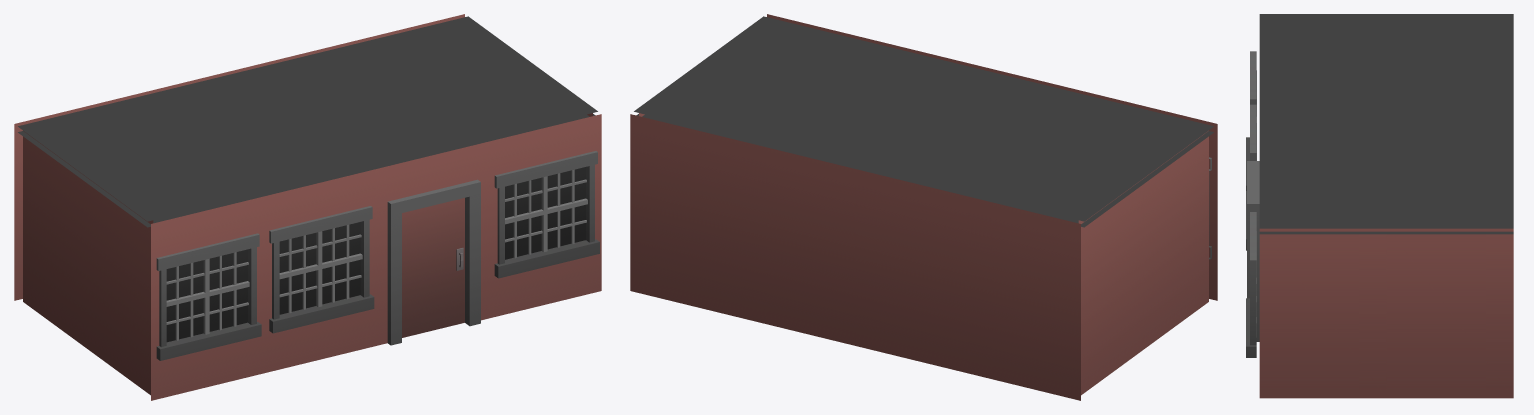
Rendered from window-hall.glb.
3 renders of one model, left to right at view 1: azimuth 30°, elevation 25°; view 2: azimuth 150°, elevation 25°; view 3: azimuth 270°, elevation 25°, orthographic. The views are drawn at different scales.
Parts seen in each view (by area): view 1: Part_02_IndWindowBFull_WindowBFull, Part_01_IndWindowBFull_WindowBFull, Part_05_IndWindowBFull_WindowBFull, Part_03_IndDoorFrameSingle_DoorFrameSingle, Part_11_IndWallFull_WallFull, Part_10_IndWallFull_WallFull, Part_14_IndRoofDarkGreyFull_RoofDarkGreyFull, Part_04_IndDoorSingleRed_DoorSingleRed, Part_18_IndRoofDarkGreyFull_RoofDarkGreyFull, Part_16_IndRoofDarkGreyFull_RoofDarkGreyFull, Part_15_IndRoofDarkGreyFull_RoofDarkGreyFull, Part_17_IndRoofDarkGreyFull_RoofDarkGreyFull (+4 smaller); view 2: Part_07_IndWallFull_WallFull, Part_06_IndWallFull_WallFull, Part_09_IndWallFull_WallFull, Part_08_IndWallFull_WallFull, Part_10_IndWallFull_WallFull, Part_11_IndWallFull_WallFull, Part_18_IndRoofDarkGreyFull_RoofDarkGreyFull, Part_14_IndRoofDarkGreyFull_RoofDarkGreyFull, Part_20_IndRoofDarkGreyFull_RoofDarkGreyFull, Part_19_IndRoofDarkGreyFull_RoofDarkGreyFull, Part_21_IndRoofDarkGreyFull_RoofDarkGreyFull, Part_16_IndRoofDarkGreyFull_RoofDarkGreyFull (+3 smaller); view 3: Part_12_IndWallFull_WallFull, Part_13_IndWallFull_WallFull, Part_17_IndRoofDarkGreyFull_RoofDarkGreyFull, Part_21_IndRoofDarkGreyFull_RoofDarkGreyFull, Part_15_IndRoofDarkGreyFull_RoofDarkGreyFull, Part_19_IndRoofDarkGreyFull_RoofDarkGreyFull, Part_14_IndRoofDarkGreyFull_RoofDarkGreyFull, Part_16_IndRoofDarkGreyFull_RoofDarkGreyFull, Part_18_IndRoofDarkGreyFull_RoofDarkGreyFull, Part_20_IndRoofDarkGreyFull_RoofDarkGreyFull, Part_03_IndDoorFrameSingle_DoorFrameSingle, Part_05_IndWindowBFull_WindowBFull (+2 smaller).
Boxes of the visible parts, box(x1,y1,x2,y2) form: Part_02_IndWindowBFull_WindowBFull: box(263, 169, 376, 373); Part_01_IndWindowBFull_WindowBFull: box(151, 196, 263, 400); Part_05_IndWindowBFull_WindowBFull: box(489, 114, 601, 318); Part_03_IndDoorFrameSingle_DoorFrameSingle: box(376, 141, 488, 345); Part_11_IndWallFull_WallFull: box(23, 130, 88, 349); Part_10_IndWallFull_WallFull: box(88, 178, 153, 395); Part_14_IndRoofDarkGreyFull_RoofDarkGreyFull: box(83, 146, 259, 227); Part_04_IndDoorSingleRed_DoorSingleRed: box(402, 198, 464, 337); Part_18_IndRoofDarkGreyFull_RoofDarkGreyFull: box(18, 99, 194, 179); Part_16_IndRoofDarkGreyFull_RoofDarkGreyFull: box(308, 91, 485, 170); Part_15_IndRoofDarkGreyFull_RoofDarkGreyFull: box(195, 119, 372, 197); Part_17_IndRoofDarkGreyFull_RoofDarkGreyFull: box(421, 64, 597, 142); Part_07_IndWallFull_WallFull: box(855, 169, 968, 373); Part_06_IndWallFull_WallFull: box(968, 196, 1080, 400); Part_09_IndWallFull_WallFull: box(630, 114, 742, 318); Part_08_IndWallFull_WallFull: box(743, 141, 855, 345); Part_10_IndWallFull_WallFull: box(1143, 130, 1208, 349); Part_11_IndWallFull_WallFull: box(1078, 178, 1143, 395); Part_18_IndRoofDarkGreyFull_RoofDarkGreyFull: box(972, 146, 1148, 227); Part_14_IndRoofDarkGreyFull_RoofDarkGreyFull: box(1037, 99, 1213, 179); Part_20_IndRoofDarkGreyFull_RoofDarkGreyFull: box(746, 91, 923, 170); Part_19_IndRoofDarkGreyFull_RoofDarkGreyFull: box(859, 119, 1036, 197); Part_21_IndRoofDarkGreyFull_RoofDarkGreyFull: box(634, 64, 810, 142); Part_16_IndRoofDarkGreyFull_RoofDarkGreyFull: box(811, 44, 988, 118); Part_12_IndWallFull_WallFull: box(1259, 228, 1386, 398); Part_13_IndWallFull_WallFull: box(1386, 228, 1513, 398); Part_17_IndRoofDarkGreyFull_RoofDarkGreyFull: box(1259, 175, 1386, 234); Part_21_IndRoofDarkGreyFull_RoofDarkGreyFull: box(1386, 175, 1513, 234); Part_15_IndRoofDarkGreyFull_RoofDarkGreyFull: box(1259, 67, 1386, 121); Part_19_IndRoofDarkGreyFull_RoofDarkGreyFull: box(1386, 67, 1513, 121); Part_14_IndRoofDarkGreyFull_RoofDarkGreyFull: box(1259, 14, 1386, 67); Part_16_IndRoofDarkGreyFull_RoofDarkGreyFull: box(1259, 121, 1386, 174); Part_18_IndRoofDarkGreyFull_RoofDarkGreyFull: box(1386, 14, 1513, 67); Part_20_IndRoofDarkGreyFull_RoofDarkGreyFull: box(1386, 121, 1513, 174); Part_03_IndDoorFrameSingle_DoorFrameSingle: box(1247, 161, 1259, 341); Part_05_IndWindowBFull_WindowBFull: box(1246, 212, 1256, 357).
Bounding box in the file's own units: 8 × 3 × 4.32.
21 materials, 21 textured.
